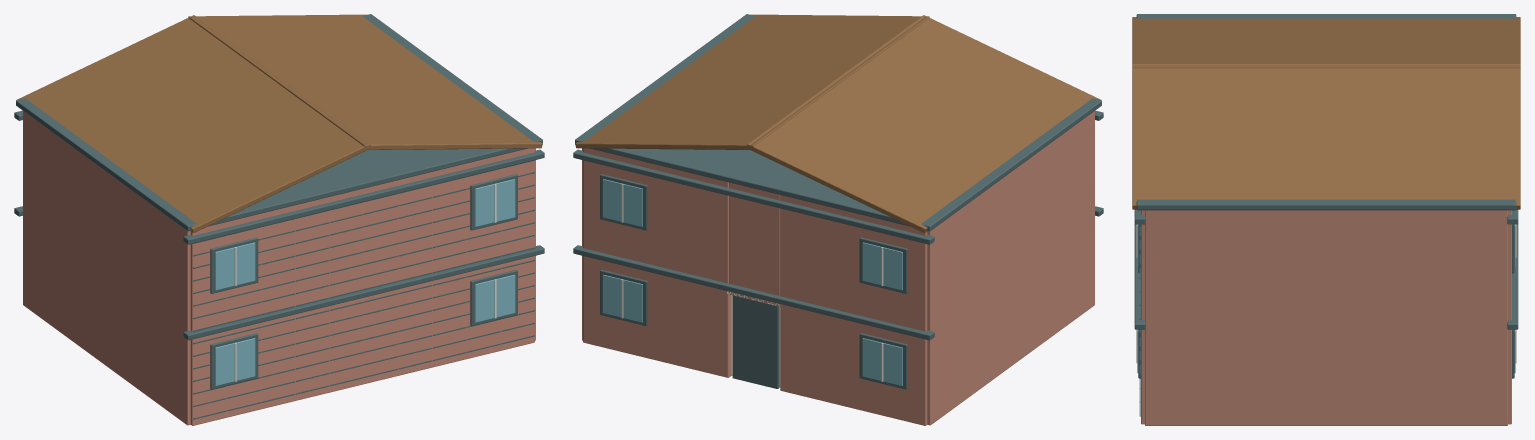
The model's file is district-duplex.glb.
3 views of the same model, side by side, from view 1: azimuth 30°, elevation 25°; view 2: azimuth 150°, elevation 25°; view 3: azimuth 270°, elevation 25° (orthographic). The views are drawn at different scales.
Visible parts, largest first — view 1: shell-wall, roof-wood, shell-trim, roof-trim, shell-glass; view 2: shell-wall, roof-wood, roof-trim, shell-trim, shell-glass, door leaf; view 3: shell-wall, roof-wood, roof-trim, shell-trim.
Boxes of the visible parts, bbox=[...] form: shell-wall: bbox=[23, 111, 535, 425]; roof-wood: bbox=[16, 14, 542, 232]; shell-trim: bbox=[14, 110, 544, 419]; roof-trim: bbox=[16, 14, 542, 231]; shell-glass: bbox=[215, 179, 515, 385]; shell-wall: bbox=[582, 111, 1094, 425]; roof-wood: bbox=[575, 14, 1101, 232]; roof-trim: bbox=[575, 14, 1101, 231]; shell-trim: bbox=[573, 110, 1103, 389]; shell-glass: bbox=[602, 179, 902, 385]; door leaf: bbox=[732, 295, 779, 388]; shell-wall: bbox=[1141, 210, 1511, 425]; roof-wood: bbox=[1132, 17, 1520, 209]; roof-trim: bbox=[1136, 14, 1516, 210]; shell-trim: bbox=[1134, 209, 1518, 416].
Size of the model in its own units: 12.5 by 8.13 by 10.7.
